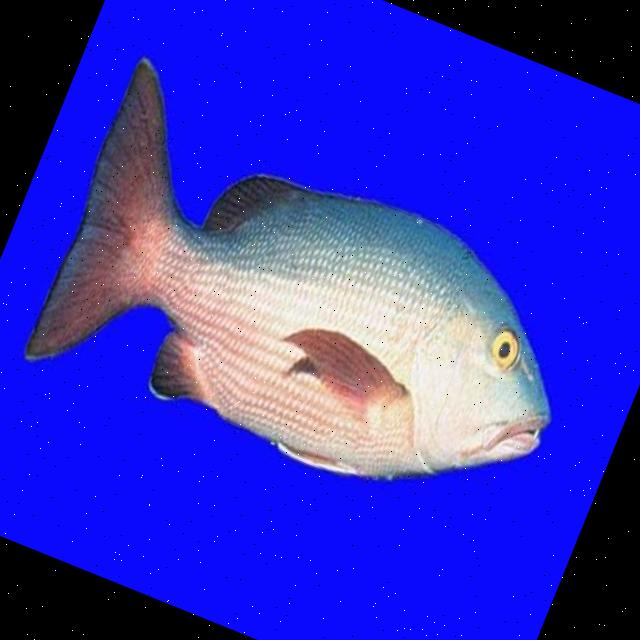ikan: (16, 51, 622, 550)
